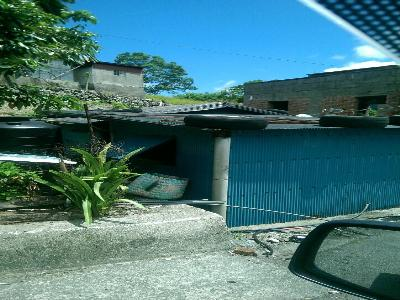bowl: (126, 171, 188, 201)
tire: (182, 113, 270, 132), (318, 114, 390, 131)
